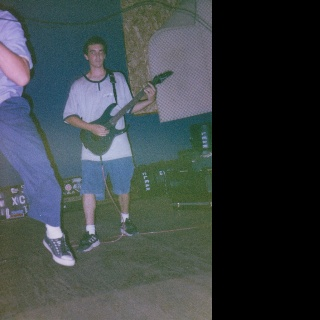without_mask: (87, 43, 105, 68)
